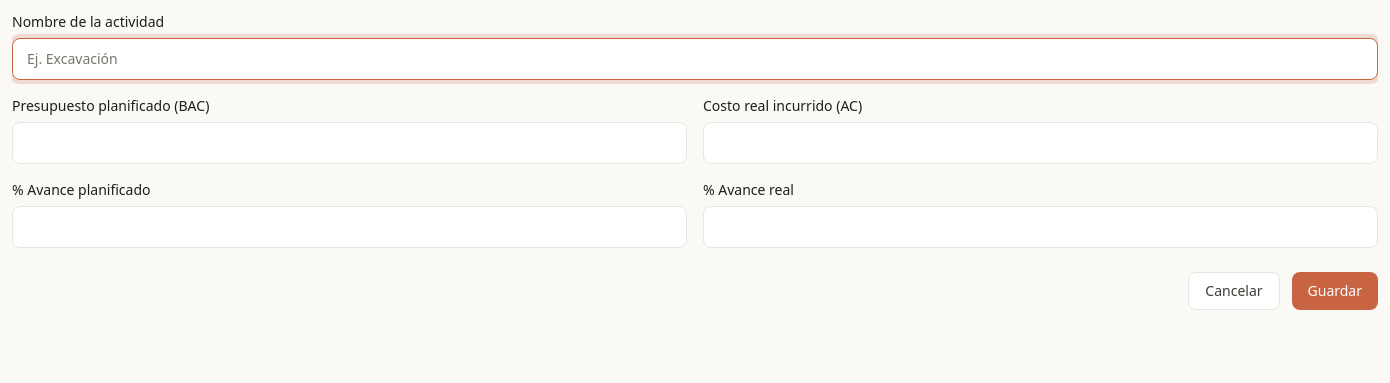
Scenario: FormularioActividad › shows a validation error when a percentage is above 100
Type "Excavación" into the field labelled "Nombre de la actividad" at (695, 59), box x1=12 y1=38 x2=1378 y2=80
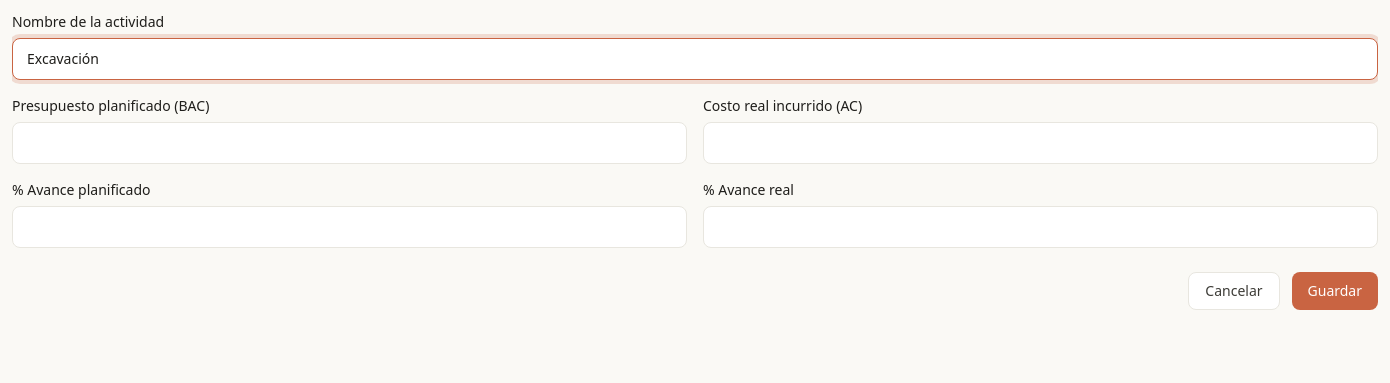
Type "150" into the number field labelled "% Avance planificado" at (350, 227), box x1=12 y1=206 x2=687 y2=248
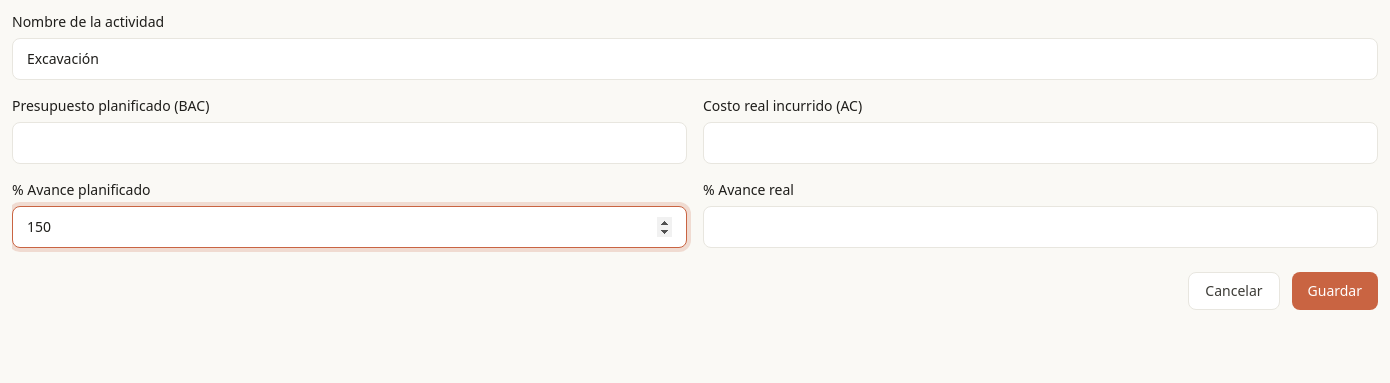
Click the button "Guardar" at (1335, 291), box x1=1292 y1=272 x2=1378 y2=310
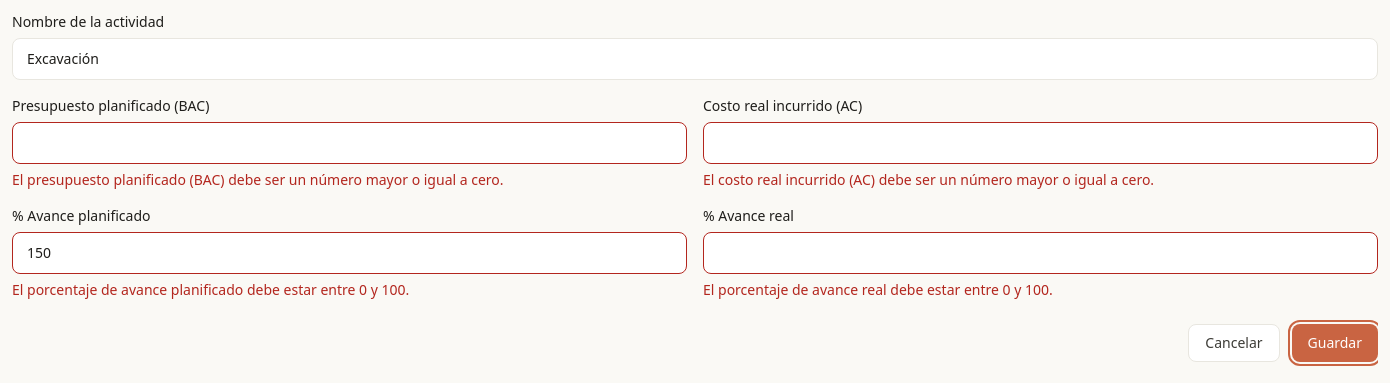
Now the text "El porcentaje de avance planificado debe estar entre 0 y 100." is shown, box x1=12 y1=280 x2=409 y2=299
